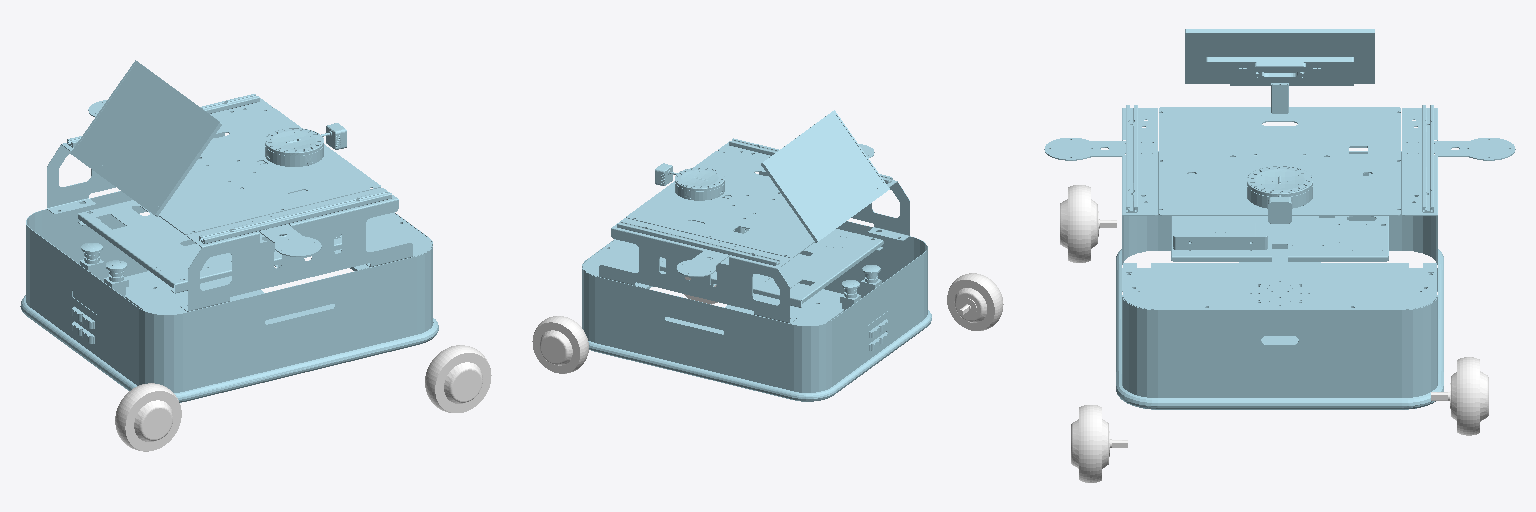
robot.urdf — lucsys_lsr550_mec_ultimate_oscillating_axle_suspension:
<?xml version="1.0" encoding="utf-8"?>
<robot name="lucsys_lsr550_mec_ultimate_oscillating_axle_suspension">
  <link name="base_link">
    <inertial>
      <origin xyz="-0.00264136115542805 -0.000478714215745704 0.0465081194028082" rpy="0 0 0" />
      <mass value="4.86878291717535" />
      <inertia ixx="0.037251697324237" ixy="-4.62534191163563E-05" ixz="2.55824100252923E-08" iyy="0.0356401227216898" iyz="-5.69404839174868E-07" izz="0.0712831173052379" />
    </inertial>
    <visual>
      <origin xyz="0 0 0" rpy="0 0 0" />
      <geometry>
        <mesh filename="package://lucsys_lsr550_mec_ultimate_oscillating_axle_suspension_description/meshes/lsr550_mec_ultimate_oscillating_axle_suspension/base_link.STL" />
      </geometry>
      <material name="lucsys_material_0">
        <color rgba="0.741176470588235 0.901960784313726 0.956862745098039 1" />
      </material>
    </visual>
    <collision>
      <origin xyz="0 0 0" rpy="0 0 0" />
      <geometry>
        <mesh filename="package://lucsys_lsr550_mec_ultimate_oscillating_axle_suspension_description/meshes/lsr550_mec_ultimate_oscillating_axle_suspension/base_link.STL" />
      </geometry>
    </collision>
  </link>
  <link name="lf_wheel_link">
    <inertial>
      <origin xyz="1.97034659690232E-05 -0.00238148433606722 -4.49547036794617E-06" rpy="0 0 0" />
      <mass value="0.241686926461965" />
      <inertia ixx="0.000456944123565094" ixy="-1.84200464171476E-07" ixz="1.62222920669159E-08" iyy="0.000867978794635428" iyz="2.50176401996288E-09" izz="0.000456349229369202" />
    </inertial>
    <visual>
      <origin xyz="0 0 0" rpy="0 0 0" />
      <geometry>
        <mesh filename="package://lucsys_lsr550_mec_ultimate_oscillating_axle_suspension_description/meshes/lsr550_mec_ultimate_oscillating_axle_suspension/lf_wheel_link.STL" />
      </geometry>
      <material name="lucsys_material_1">
        <color rgba="1 1 1 1" />
      </material>
    </visual>
    <collision>
      <origin xyz="0 0 0" rpy="0 0 0" />
      <geometry>
        <mesh filename="package://lucsys_lsr550_mec_ultimate_oscillating_axle_suspension_description/meshes/lsr550_mec_ultimate_oscillating_axle_suspension/lf_wheel_link.STL" />
      </geometry>
    </collision>
  </link>
  <joint name="lf_wheel_joint" type="continuous">
    <origin xyz="0.307993160645862 0.311475641802979 0.022506" rpy="0 0 0" />
    <parent link="base_link" />
    <child link="lf_wheel_link" />
    <axis xyz="0 -1 0" />
  </joint>
  <link name="lb_wheel_link">
    <inertial>
      <origin xyz="1.97034680050612E-05 -0.00238148433616886 -4.49547096865316E-06" rpy="0 0 0" />
      <mass value="0.241686926457917" />
      <inertia ixx="0.00045694412355823" ixy="-1.84200458610283E-07" ixz="1.62222964552424E-08" iyy="0.000867978794626423" iyz="2.50176671642074E-09" izz="0.000456349229364437" />
    </inertial>
    <visual>
      <origin xyz="0 0 0" rpy="0 0 0" />
      <geometry>
        <mesh filename="package://lucsys_lsr550_mec_ultimate_oscillating_axle_suspension_description/meshes/lsr550_mec_ultimate_oscillating_axle_suspension/lb_wheel_link.STL" />
      </geometry>
      <material name="lucsys_material_2">
        <color rgba="1 1 1 1" />
      </material>
    </visual>
    <collision>
      <origin xyz="0 0 0" rpy="0 0 0" />
      <geometry>
        <mesh filename="package://lucsys_lsr550_mec_ultimate_oscillating_axle_suspension_description/meshes/lsr550_mec_ultimate_oscillating_axle_suspension/lb_wheel_link.STL" />
      </geometry>
    </collision>
  </link>
  <joint name="lb_wheel_joint" type="continuous">
    <origin xyz="-0.304006839354138 0.311475641802977 0.022506" rpy="0 0 0" />
    <parent link="base_link" />
    <child link="lb_wheel_link" />
    <axis xyz="0 -1 0" />
  </joint>
  <link name="rb_wheel_link">
    <inertial>
      <origin xyz="-1.97034706787558E-05 0.00238148433583746 -4.49547036781434E-06" rpy="0 0 0" />
      <mass value="0.241686926461961" />
      <inertia ixx="0.000456944123565086" ixy="-1.84200460735969E-07" ixz="-1.62222920674726E-08" iyy="0.000867978794635423" iyz="-2.50176401974032E-09" izz="0.000456349229369198" />
    </inertial>
    <visual>
      <origin xyz="0 0 0" rpy="0 0 0" />
      <geometry>
        <mesh filename="package://lucsys_lsr550_mec_ultimate_oscillating_axle_suspension_description/meshes/lsr550_mec_ultimate_oscillating_axle_suspension/rb_wheel_link.STL" />
      </geometry>
      <material name="lucsys_material_3">
        <color rgba="1 1 1 1" />
      </material>
    </visual>
    <collision>
      <origin xyz="0 0 0" rpy="0 0 0" />
      <geometry>
        <mesh filename="package://lucsys_lsr550_mec_ultimate_oscillating_axle_suspension_description/meshes/lsr550_mec_ultimate_oscillating_axle_suspension/rb_wheel_link.STL" />
      </geometry>
    </collision>
  </link>
  <joint name="rb_wheel_joint" type="continuous">
    <origin xyz="-0.304006839354135 -0.311440358197023 0.022506" rpy="0 0 0" />
    <parent link="base_link" />
    <child link="rb_wheel_link" />
    <axis xyz="0 1 0" />
  </joint>
  <link name="rf_wheel_link">
    <inertial>
      <origin xyz="-1.97034681442831E-05 0.00238148433552604 -4.49547021818403E-06" rpy="0 0 0" />
      <mass value="0.241686926462972" />
      <inertia ixx="0.000456944123566789" ixy="-1.84200464683279E-07" ixz="-1.62222909852801E-08" iyy="0.000867978794637645" iyz="-2.50176336124332E-09" izz="0.000456349229370351" />
    </inertial>
    <visual>
      <origin xyz="0 0 0" rpy="0 0 0" />
      <geometry>
        <mesh filename="package://lucsys_lsr550_mec_ultimate_oscillating_axle_suspension_description/meshes/lsr550_mec_ultimate_oscillating_axle_suspension/rf_wheel_link.STL" />
      </geometry>
      <material name="lucsys_material_4">
        <color rgba="1 1 1 1" />
      </material>
    </visual>
    <collision>
      <origin xyz="0 0 0" rpy="0 0 0" />
      <geometry>
        <mesh filename="package://lucsys_lsr550_mec_ultimate_oscillating_axle_suspension_description/meshes/lsr550_mec_ultimate_oscillating_axle_suspension/rf_wheel_link.STL" />
      </geometry>
    </collision>
  </link>
  <joint name="rf_wheel_joint" type="continuous">
    <origin xyz="0.307993160645865 -0.311440358197021 0.022506" rpy="0 0 0" />
    <parent link="base_link" />
    <child link="rf_wheel_link" />
    <axis xyz="0 1 0" />
  </joint>
  <link name="laser_link">
    <inertial>
      <origin xyz="0.00196458631115937 -3.57895338318423E-06 -0.000201831632144329" rpy="0 0 0" />
      <mass value="0.0477519163695691" />
      <inertia ixx="3.38461999733358E-05" ixy="-2.1989701325991E-09" ixz="1.07118468706629E-06" iyy="3.94150415850317E-05" iyz="6.8397864259877E-10" izz="5.6078704209586E-05" />
    </inertial>
    <visual>
      <origin xyz="0 0 0" rpy="0 0 0" />
      <geometry>
        <mesh filename="package://lucsys_lsr550_mec_ultimate_oscillating_axle_suspension_description/meshes/lsr550_mec_ultimate_oscillating_axle_suspension/laser.STL" />
      </geometry>
      <material name="lucsys_material_5">
        <color rgba="0.376470588235294 0.376470588235294 0.376470588235294 1" />
      </material>
    </visual>
    <collision>
      <origin xyz="0 0 0" rpy="0 0 0" />
      <geometry>
        <mesh filename="package://lucsys_lsr550_mec_ultimate_oscillating_axle_suspension_description/meshes/lsr550_mec_ultimate_oscillating_axle_suspension/laser.STL" />
      </geometry>
    </collision>
  </link>
  <joint name="laser_joint" type="fixed">
    <origin xyz="0.138557024250412 1.7991757980874E-05 0.126524183741431" rpy="0 0 -3.14159265358979" />
    <parent link="base_link" />
    <child link="laser_link" />
    <axis xyz="0 0 0" />
  </joint>
  <link name="camera_link">
    <inertial>
      <origin xyz="-4.4690477610243E-07 -3.53613893195584E-07 1.07624234465392E-07" rpy="0 0 0" />
      <mass value="0.055984251208029" />
      <inertia ixx="0.000130810959339212" ixy="1.20255128208263E-07" ixz="1.62335437080019E-06" iyy="1.91148634967938E-05" iyz="-2.80016755798322E-08" izz="0.00013138746952303" />
    </inertial>
    <visual>
      <origin xyz="0 0 0" rpy="0 0 0" />
      <geometry>
        <mesh filename="package://lucsys_lsr550_mec_ultimate_oscillating_axle_suspension_description/meshes/lsr550_mec_ultimate_oscillating_axle_suspension/camera_link.STL" />
      </geometry>
      <material name="lucsys_material_6">
        <color rgba="1 1 1 1" />
      </material>
    </visual>
    <collision>
      <origin xyz="0 0 0" rpy="0 0 0" />
      <geometry>
        <mesh filename="package://lucsys_lsr550_mec_ultimate_oscillating_axle_suspension_description/meshes/lsr550_mec_ultimate_oscillating_axle_suspension/camera_link.STL" />
      </geometry>
    </collision>
  </link>
  <joint name="camera_joint" type="fixed">
    <origin xyz="0.208902160645864 0.000245641802979065 0.108204" rpy="0 0 0" />
    <parent link="base_link" />
    <child link="camera_link" />
    <axis xyz="0 0 0" />
  </joint>
  <link name="controller_link">
    <inertial>
      <origin xyz="-0.049710340054785 0.0175133932690655 0.00856001464881972" rpy="0 0 0" />
      <mass value="0.00107921954114688" />
      <inertia ixx="1.1633010999567E-08" ixy="-3.94092662514923E-09" ixz="3.6921298272065E-10" iyy="2.26830021861902E-07" iyz="5.23015112125968E-10" izz="2.25657044103404E-07" />
    </inertial>
    <visual>
      <origin xyz="0 0 0" rpy="0 0 0" />
      <geometry>
        <mesh filename="package://lucsys_lsr550_mec_ultimate_oscillating_axle_suspension_description/meshes/lsr550_mec_ultimate_oscillating_axle_suspension/controller_link.STL" />
      </geometry>
      <material name="lucsys_material_7">
        <color rgba="0.741176470588235 0.901960784313726 0.956862745098039 1" />
      </material>
    </visual>
    <collision>
      <origin xyz="0 0 0" rpy="0 0 0" />
      <geometry>
        <mesh filename="package://lucsys_lsr550_mec_ultimate_oscillating_axle_suspension_description/meshes/lsr550_mec_ultimate_oscillating_axle_suspension/controller_link.STL" />
      </geometry>
    </collision>
  </link>
  <joint name="controller_joint" type="fixed">
    <origin xyz="0.101379911991696 0.0620176418028593 0.00150000000000075" rpy="0 0 0" />
    <parent link="base_link" />
    <child link="controller_link" />
    <axis xyz="0 0 0" />
  </joint>
</robot>

--- Facts derived from the render (not from the file) ---
The picture shows the robot from 3 angles, left to right: view 1: azimuth 30°, elevation 25°; view 2: azimuth 150°, elevation 25°; view 3: azimuth 270°, elevation 25°; orthographic projection.
Model lucsys_lsr550_mec_ultimate_oscillating_axle_suspension with 8 links and 7 joints (4 continuous, 3 fixed), rooted at base_link, posed every joint at zero.
Links seen in each view (by area): view 1: base_link, rb_wheel_link, rf_wheel_link; view 2: base_link, rb_wheel_link, lf_wheel_link; view 3: base_link, lf_wheel_link, rb_wheel_link, rf_wheel_link.
Link boxes in pixels (x1=…): base_link: x1=20, y1=60, x2=438, y2=402; rb_wheel_link: x1=115, y1=383, x2=181, y2=451; rf_wheel_link: x1=425, y1=345, x2=491, y2=412; base_link: x1=582, y1=110, x2=931, y2=401; rb_wheel_link: x1=947, y1=273, x2=1003, y2=330; lf_wheel_link: x1=532, y1=316, x2=588, y2=373; base_link: x1=1044, y1=29, x2=1515, y2=409; lf_wheel_link: x1=1431, y1=357, x2=1488, y2=435; rb_wheel_link: x1=1060, y1=185, x2=1116, y2=262; rf_wheel_link: x1=1071, y1=405, x2=1127, y2=482.
Size in the robot's own frame: 0.8021 by 0.7764 by 0.6249 metres.
4 mesh visuals loaded from 8 distinct referenced files (4 binary STL); not drawn: 4 (reference not matched to a file when rendering).
